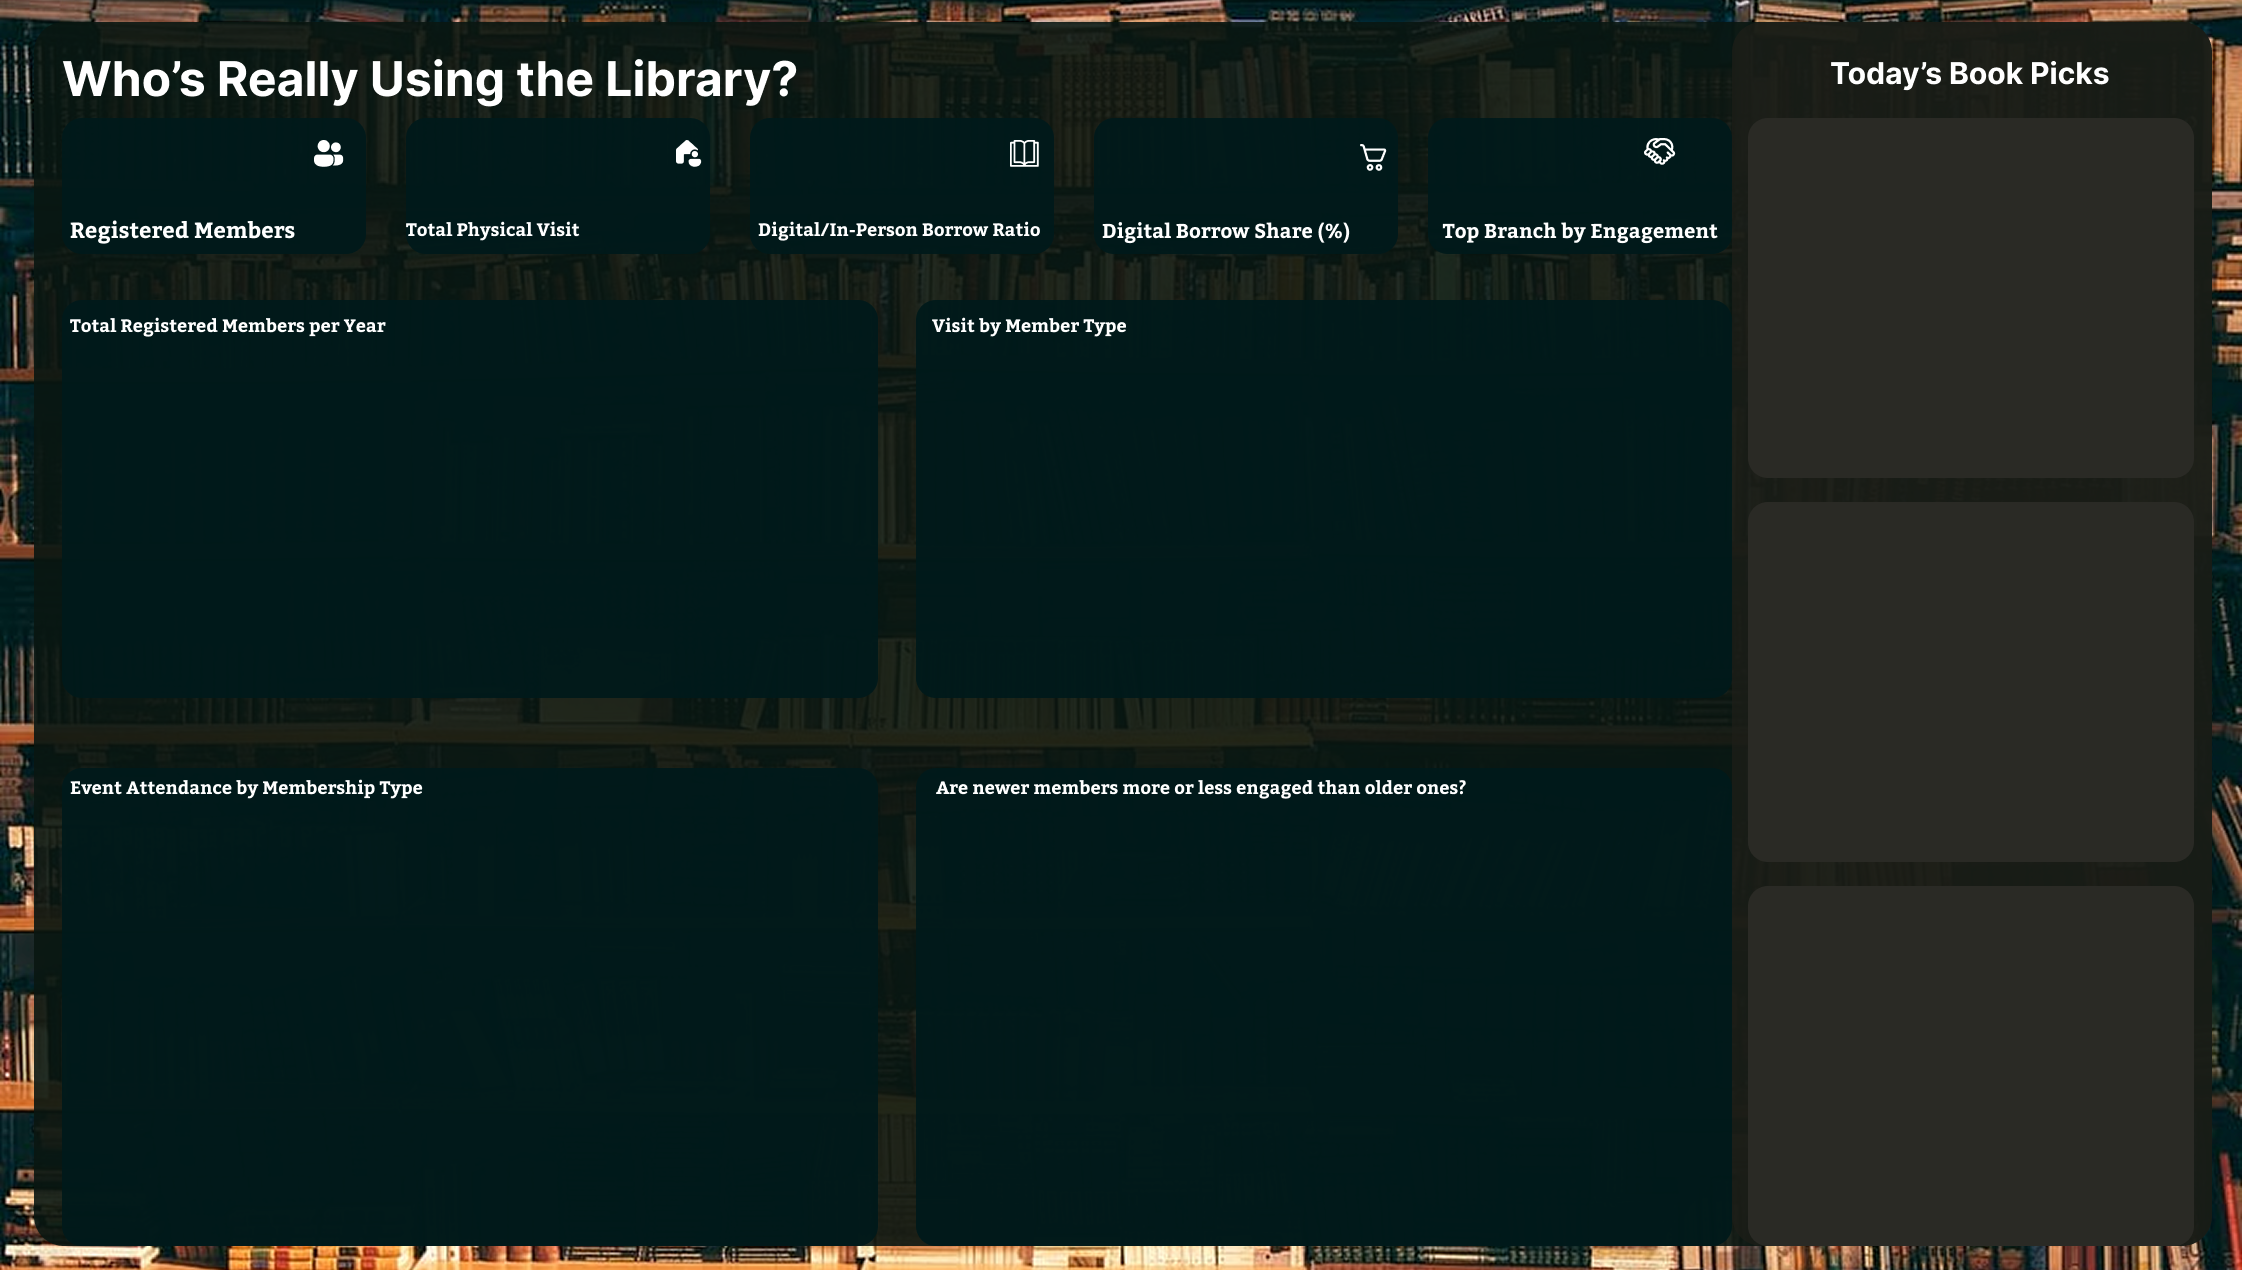

The page's visual inventory and layout, read from the dashboard file:
{"tool":"powerbi","page":{"name":"Page 1","canvas":[1300,800],"ordinal":0},"visuals":[{"type":"card","fields":{"Values":["Count(clean_library_members.Member_ID)"]},"box":[28,107,74,38],"z":0},{"type":"card","fields":{"Values":["Sum(clean_library_members.Total_Visits)"]},"box":[230,107,74,38],"z":1000},{"type":"card","fields":{"Values":["clean_library_members.DigitalToInPersonRatio"]},"box":[431,107,74,38],"z":2000},{"type":"card","fields":{"Values":["clean_library_members.DigitalBorrowSharePercent"]},"box":[629.8,106.4,104.3,38.3],"z":3000},{"type":"card","fields":{"Values":["clean_library_members.TopBranchByEngagement"]},"box":[820,91.2,148.8,53.8],"z":4000},{"type":"areaChart","fields":{"Category":["clean_library_members.Membership_Start.Variation.Date Hierarchy.Year","clean_library_members.Membership_Start.Variation.Date Hierarchy.Month"],"Y":["CountNonNull(clean_library_members.Member_ID)"]},"box":[18.3,228.2,484.5,208.5],"z":5000},{"type":"columnChart","fields":{"Y":["Sum(clean_library_members.Event_Attendance)"],"Category":["clean_library_members.Membership_Type"],"Series":["clean_library_members.Branch"]},"box":[31,486,475,263],"z":6000},{"type":"clusteredColumnChart","fields":{"Y":["Sum(clean_library_members.Total_Visits)"],"Category":["clean_library_members.Membership_Type"]},"box":[535,216,471,221],"z":7000},{"type":"clusteredBarChart","fields":{"Category":["clean_library_members.Membership_Start.Variation.Date Hierarchy.Year"],"Y":["clean_library_members.EngagementScore"]},"box":[535,498,471,251],"z":8000},{"type":"image","box":[1012,317,264,214],"z":9000},{"type":"image","box":[1012,539,264,210],"z":10000},{"type":"image","box":[1012,98,264,207],"z":11000},{"type":"slicer","fields":{"Values":["clean_library_members.Branch"]},"box":[666,51,359,40],"z":11001}]}

Visuals, with their boxes on the page's 1300x800 design canvas (x1, y1, x2, y2). These are canvas units, not pixel positions in the 2242x1270 screenshot, which may show the page scaled, cropped or inside an application window:
card - Count(clean_library_members.Member_ID): x1=28 y1=107 x2=102 y2=145
card - Sum(clean_library_members.Total_Visits): x1=230 y1=107 x2=304 y2=145
card - clean_library_members.DigitalToInPersonRatio: x1=431 y1=107 x2=505 y2=145
card - clean_library_members.DigitalBorrowSharePercent: x1=630 y1=106 x2=734 y2=145
card - clean_library_members.TopBranchByEngagement: x1=820 y1=91 x2=969 y2=145
areaChart - clean_library_members.Membership_Start.Variation.Date Hierarchy.Year x clean_library_members.Membership_Start.Variation.Date Hierarchy.Month: x1=18 y1=228 x2=503 y2=437
columnChart - Sum(clean_library_members.Event_Attendance) x clean_library_members.Membership_Type: x1=31 y1=486 x2=506 y2=749
clusteredColumnChart - Sum(clean_library_members.Total_Visits) x clean_library_members.Membership_Type: x1=535 y1=216 x2=1006 y2=437
clusteredBarChart - clean_library_members.Membership_Start.Variation.Date Hierarchy.Year x clean_library_members.EngagementScore: x1=535 y1=498 x2=1006 y2=749
image: x1=1012 y1=317 x2=1276 y2=531
image: x1=1012 y1=539 x2=1276 y2=749
image: x1=1012 y1=98 x2=1276 y2=305
slicer - clean_library_members.Branch: x1=666 y1=51 x2=1025 y2=91
